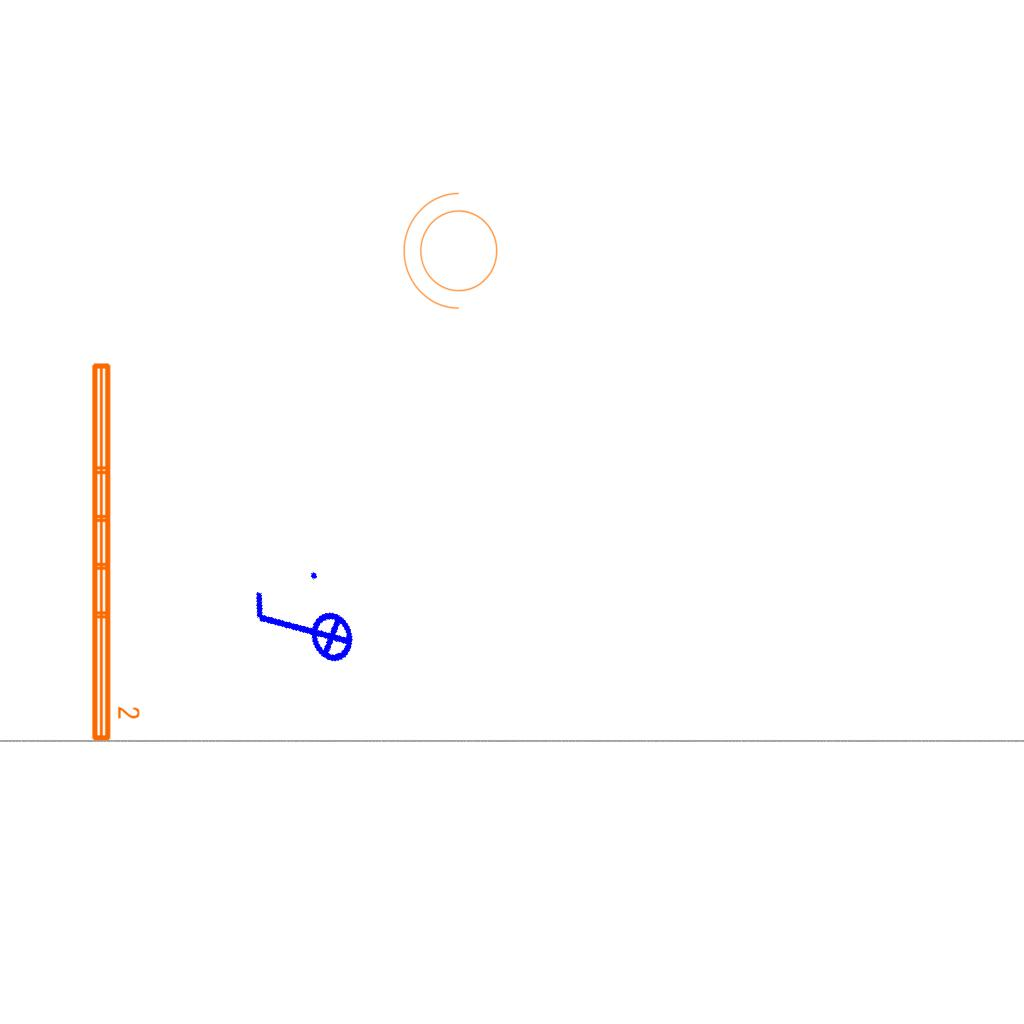Ambulanz_Pendelleuchte_LED: (86, 358, 142, 745)
Ausschalter_beleuchtet: (239, 560, 365, 696)
Scheinwerfer_fuer_Alarmbeleuchtung: (398, 188, 510, 320)
